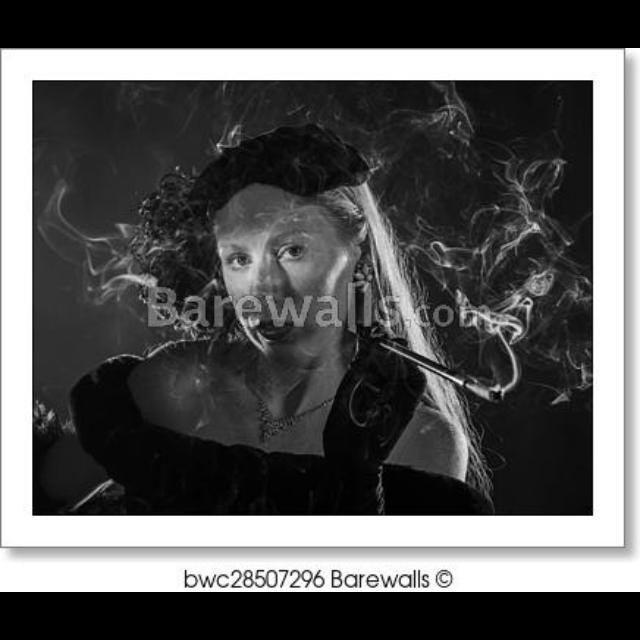rokok: (461, 376, 499, 404)
